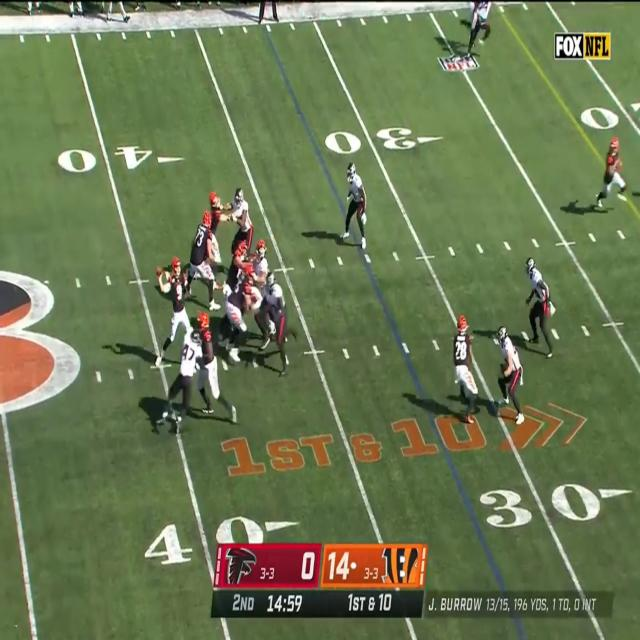Ball: (156, 265, 163, 277)
